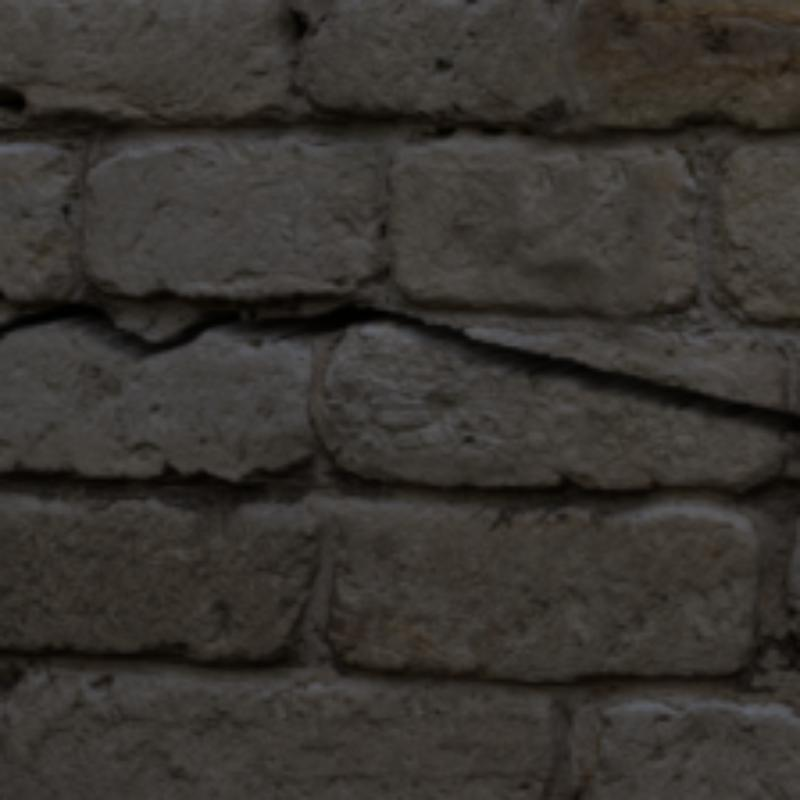crack: (0, 300, 796, 432)
